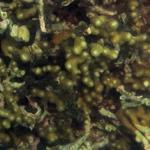alive: (3, 4, 147, 144)
